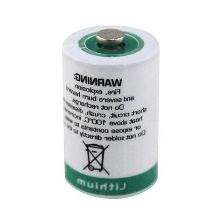battery: (57, 22, 162, 202)
